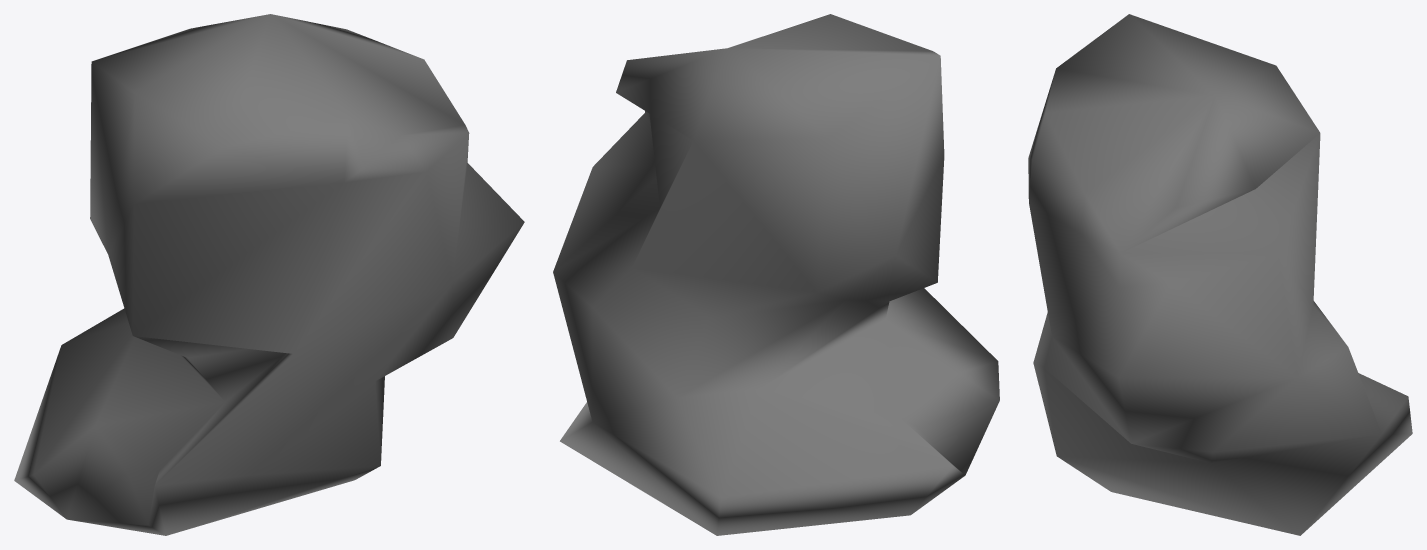
Rendered from Rock1.fbx.
The picture shows the model from 3 angles, left to right: view 1: azimuth 30°, elevation 25°; view 2: azimuth 150°, elevation 25°; view 3: azimuth 270°, elevation 25°; orthographic projection. The views are drawn at different scales.
Parts seen in each view (by area): view 1: rock1; view 2: rock1; view 3: rock1.
Part boxes in pixels (bbox=[...]): rock1: bbox=[14, 14, 524, 535]; rock1: bbox=[553, 14, 999, 535]; rock1: bbox=[1028, 14, 1412, 535].
Bounding box in the file's own units: 13.45 × 12.62 × 11.34.
